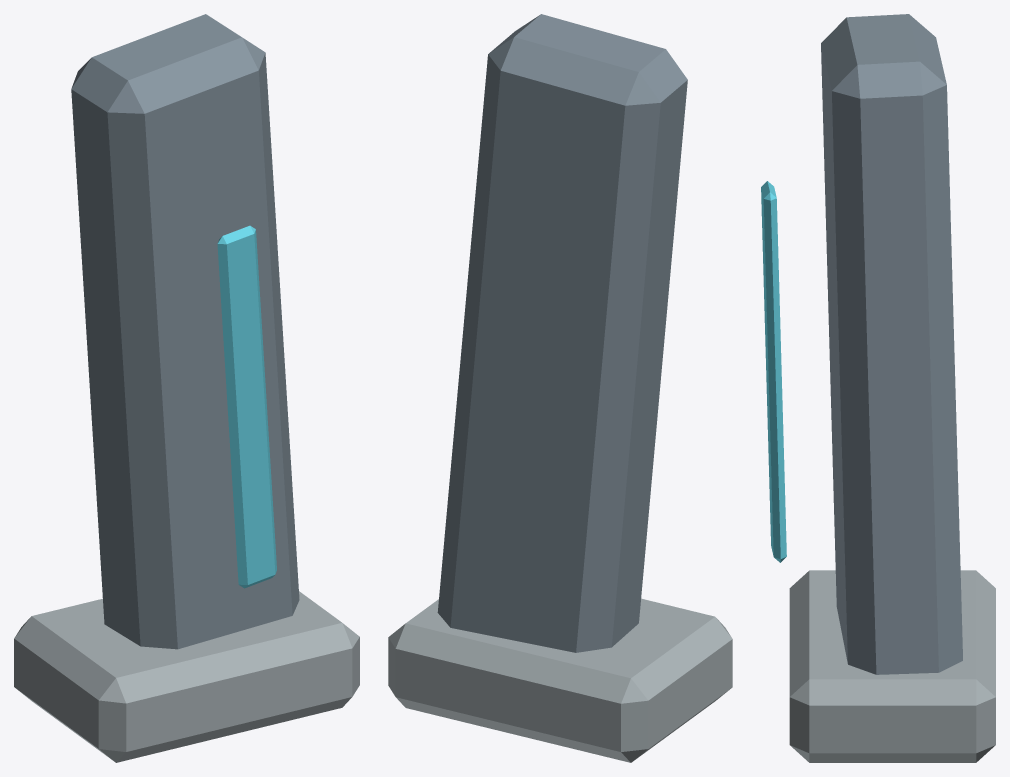
Rendered from Landmark_04_LOD0.fbx.
3 renders of one model, left to right at view 1: azimuth 30°, elevation 25°; view 2: azimuth 150°, elevation 25°; view 3: azimuth 270°, elevation 25°, orthographic.
Visible parts, largest first — view 1: Landmark_04_LOD0; view 2: Landmark_04_LOD0; view 3: Landmark_04_LOD0.
Part boxes in pixels (<box>): Landmark_04_LOD0: <box>14,14,359,762</box>; Landmark_04_LOD0: <box>388,14,732,762</box>; Landmark_04_LOD0: <box>761,14,995,762</box>.
Size of the model in its own units: 180 by 446 by 142.
